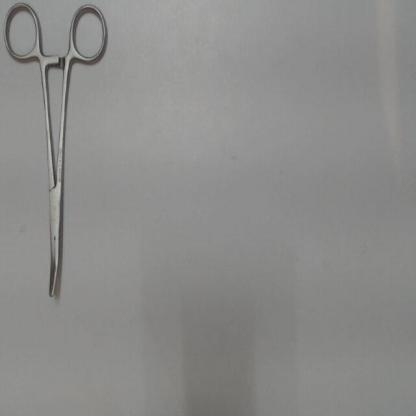Crile Artery Forceps: (0, 2, 112, 305)
